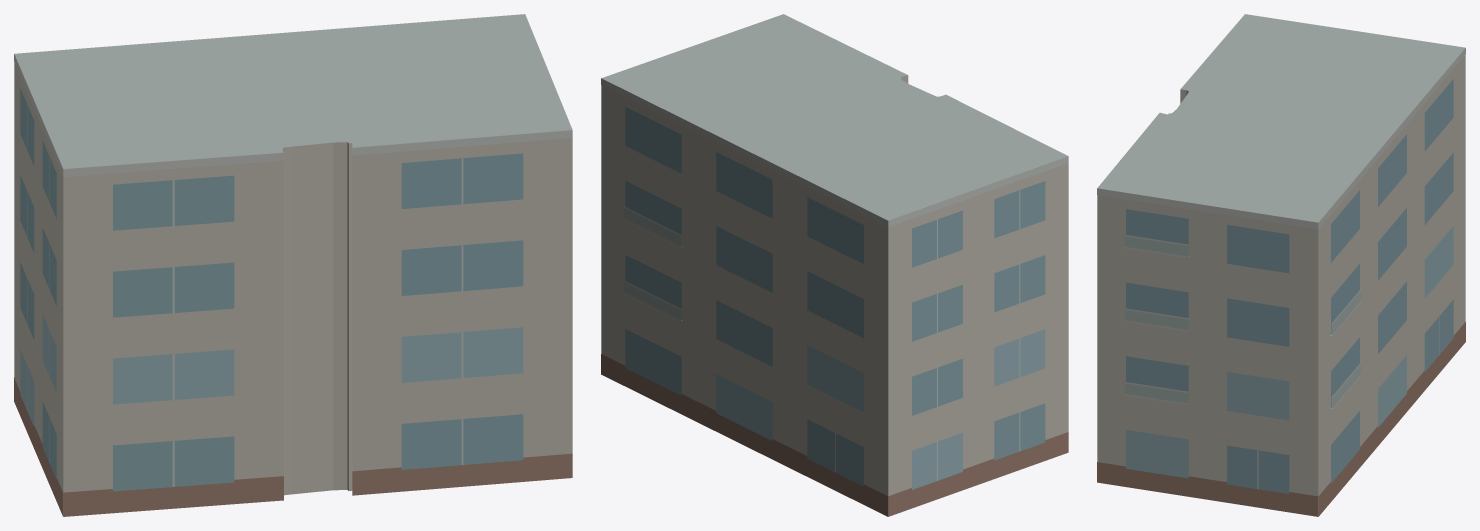
Rendered from survey-upis-32893563.glb.
3 views of the same model, side by side, from view 1: azimuth 30°, elevation 25°; view 2: azimuth 150°, elevation 25°; view 3: azimuth 270°, elevation 25° (orthographic). The views are drawn at different scales.
Visible parts, largest first — view 1: survey-upis-32893563.tmp; view 2: survey-upis-32893563.tmp; view 3: survey-upis-32893563.tmp.
Boxes of the visible parts, box(x1,y1,x2,y2) form: survey-upis-32893563.tmp: box(14, 14, 572, 516); survey-upis-32893563.tmp: box(601, 14, 1068, 516); survey-upis-32893563.tmp: box(1097, 14, 1465, 516).
Bounding box in the file's own units: 16.51 × 10.85 × 12.33.
